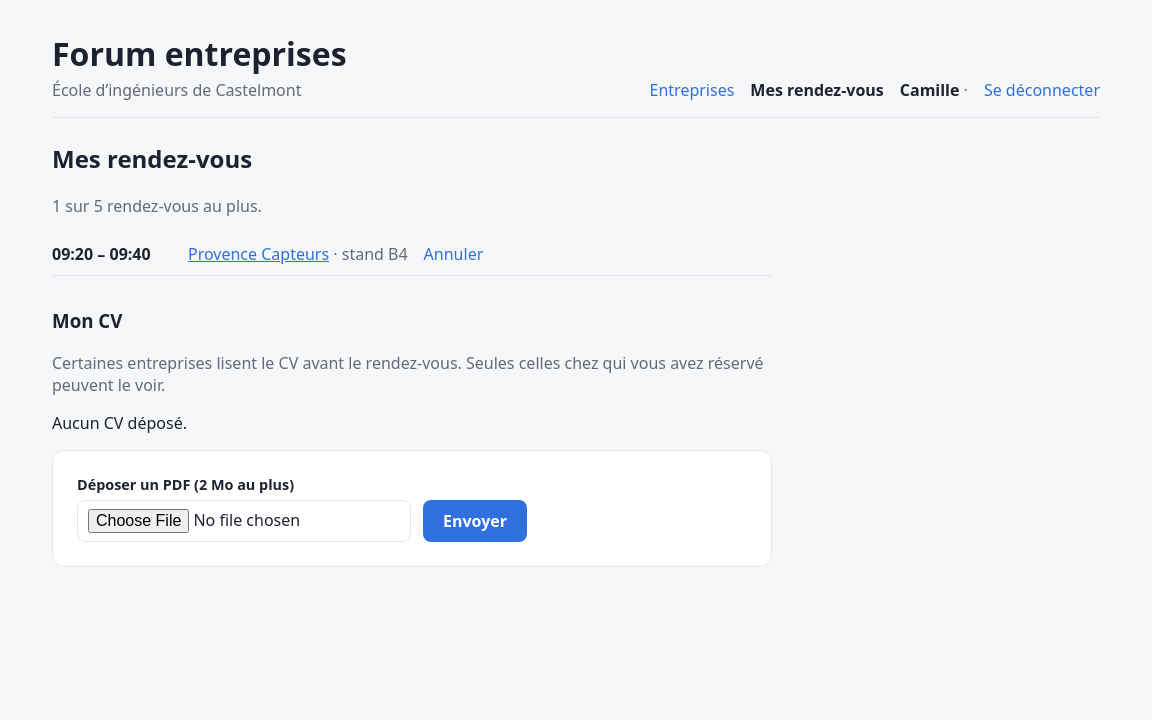
Test: the pages of each role › the student sees their bookings, and cancels one with DELETE /bookings/:id
Expected: the link "Provence Capteurs" is shown, [188,243,329,265]
Click the button with aria-label "Annuler le rendez-vous avec Provence Capteurs" at (453, 254), box [424,243,483,265]
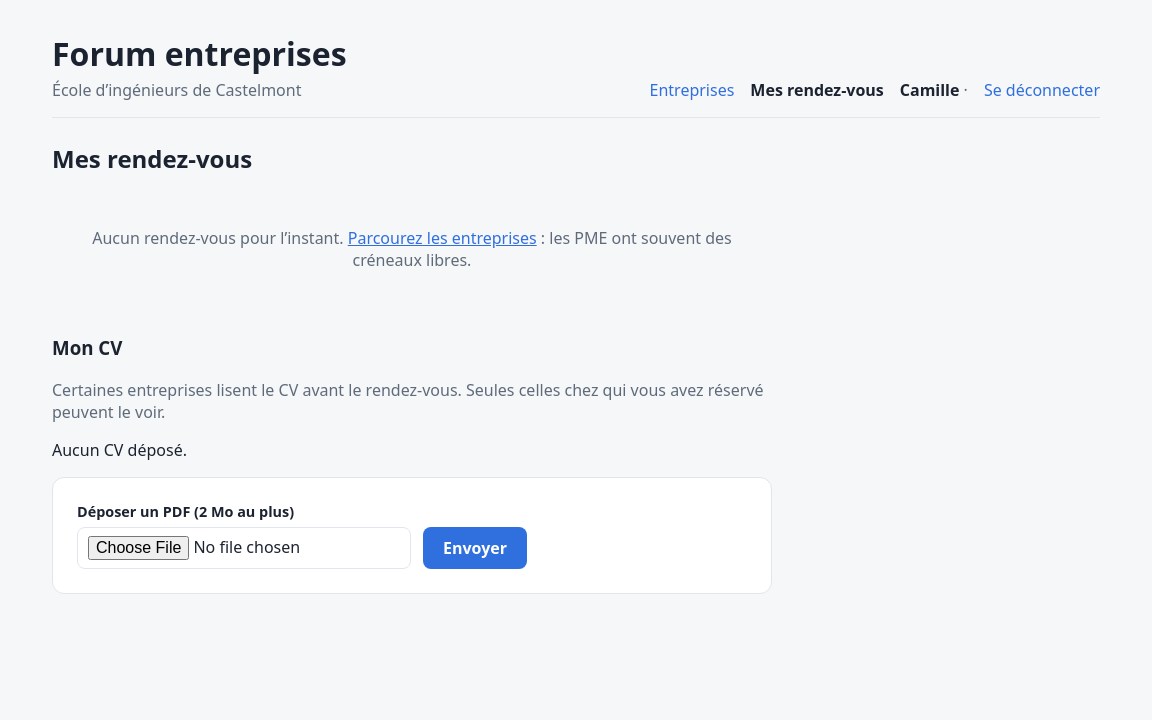
Now the text "Aucun rendez-vous pour l’instant" is shown, box [92,227,348,249]
